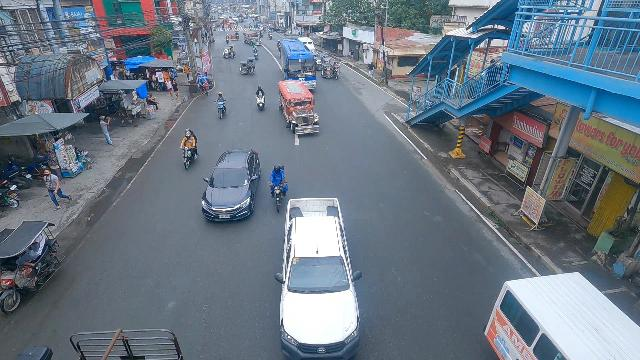bus: (280, 39, 317, 91)
car: (200, 147, 262, 223), (270, 25, 285, 33)
jeepney: (275, 81, 321, 137), (243, 31, 262, 46)
motorcycle: (179, 127, 198, 171), (269, 164, 287, 210), (214, 91, 227, 120), (254, 85, 266, 111), (252, 47, 259, 60), (277, 41, 281, 52), (268, 31, 272, 40)
truck: (279, 196, 362, 360)
van: (297, 37, 316, 55)
